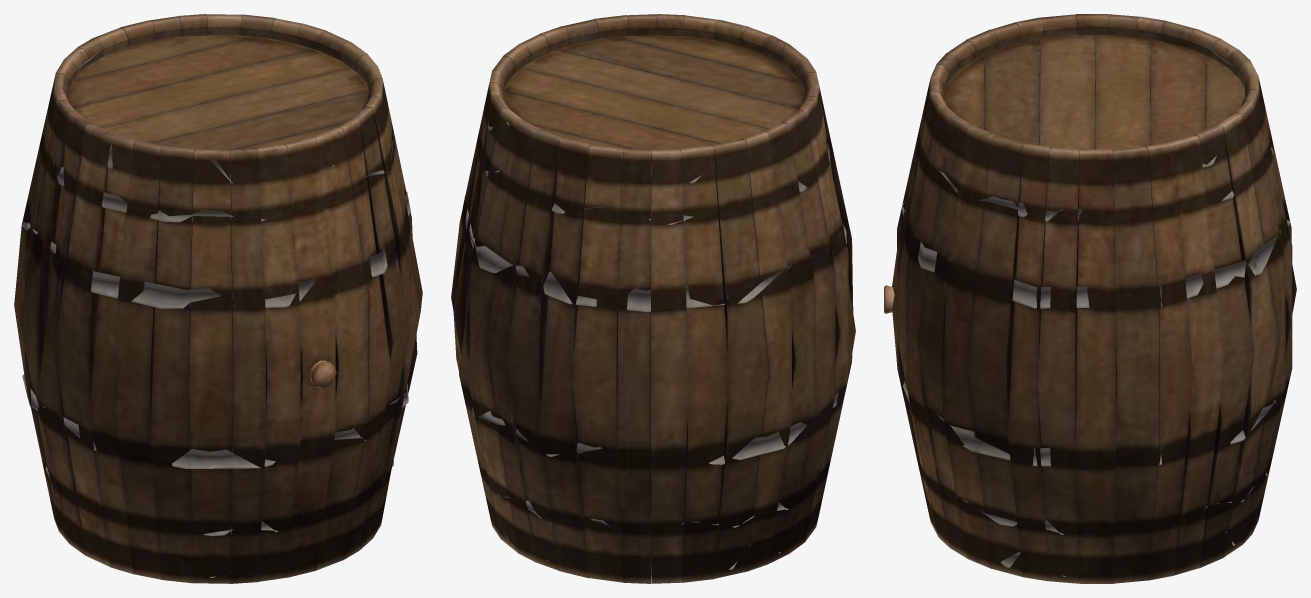
Rendered from wine_barrel_01.glb.
The picture shows the model from 3 angles, left to right: view 1: azimuth 30°, elevation 25°; view 2: azimuth 150°, elevation 25°; view 3: azimuth 270°, elevation 25°; orthographic projection.
Visible parts, largest first — view 1: wine_barrel_01, wine_barrel_01_Lid, wine_barrel_01_bung; view 2: wine_barrel_01, wine_barrel_01_Lid; view 3: wine_barrel_01, wine_barrel_01_Lid.
Boxes of the visible parts, box(x1,y1,x2,y2) form: wine_barrel_01: box(14, 14, 422, 583); wine_barrel_01_Lid: box(67, 36, 368, 149); wine_barrel_01_bung: box(309, 360, 336, 388); wine_barrel_01: box(451, 14, 855, 583); wine_barrel_01_Lid: box(503, 36, 804, 152); wine_barrel_01: box(892, 14, 1296, 583); wine_barrel_01_Lid: box(944, 35, 1244, 149).
Bounding box in the file's own units: 0.7391 × 0.8695 × 0.754.
Materials: 1 (1 with a texture image).
